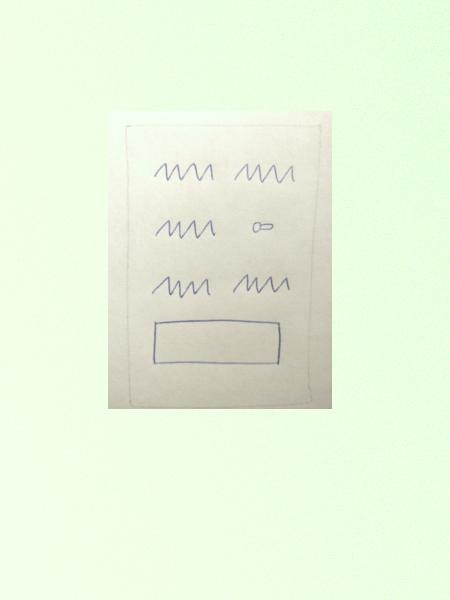switch: (247, 214, 279, 236)
text: (148, 213, 221, 246), (146, 271, 216, 303), (228, 268, 295, 300), (150, 155, 220, 183), (232, 159, 299, 188)
text_input: (149, 316, 288, 370)
